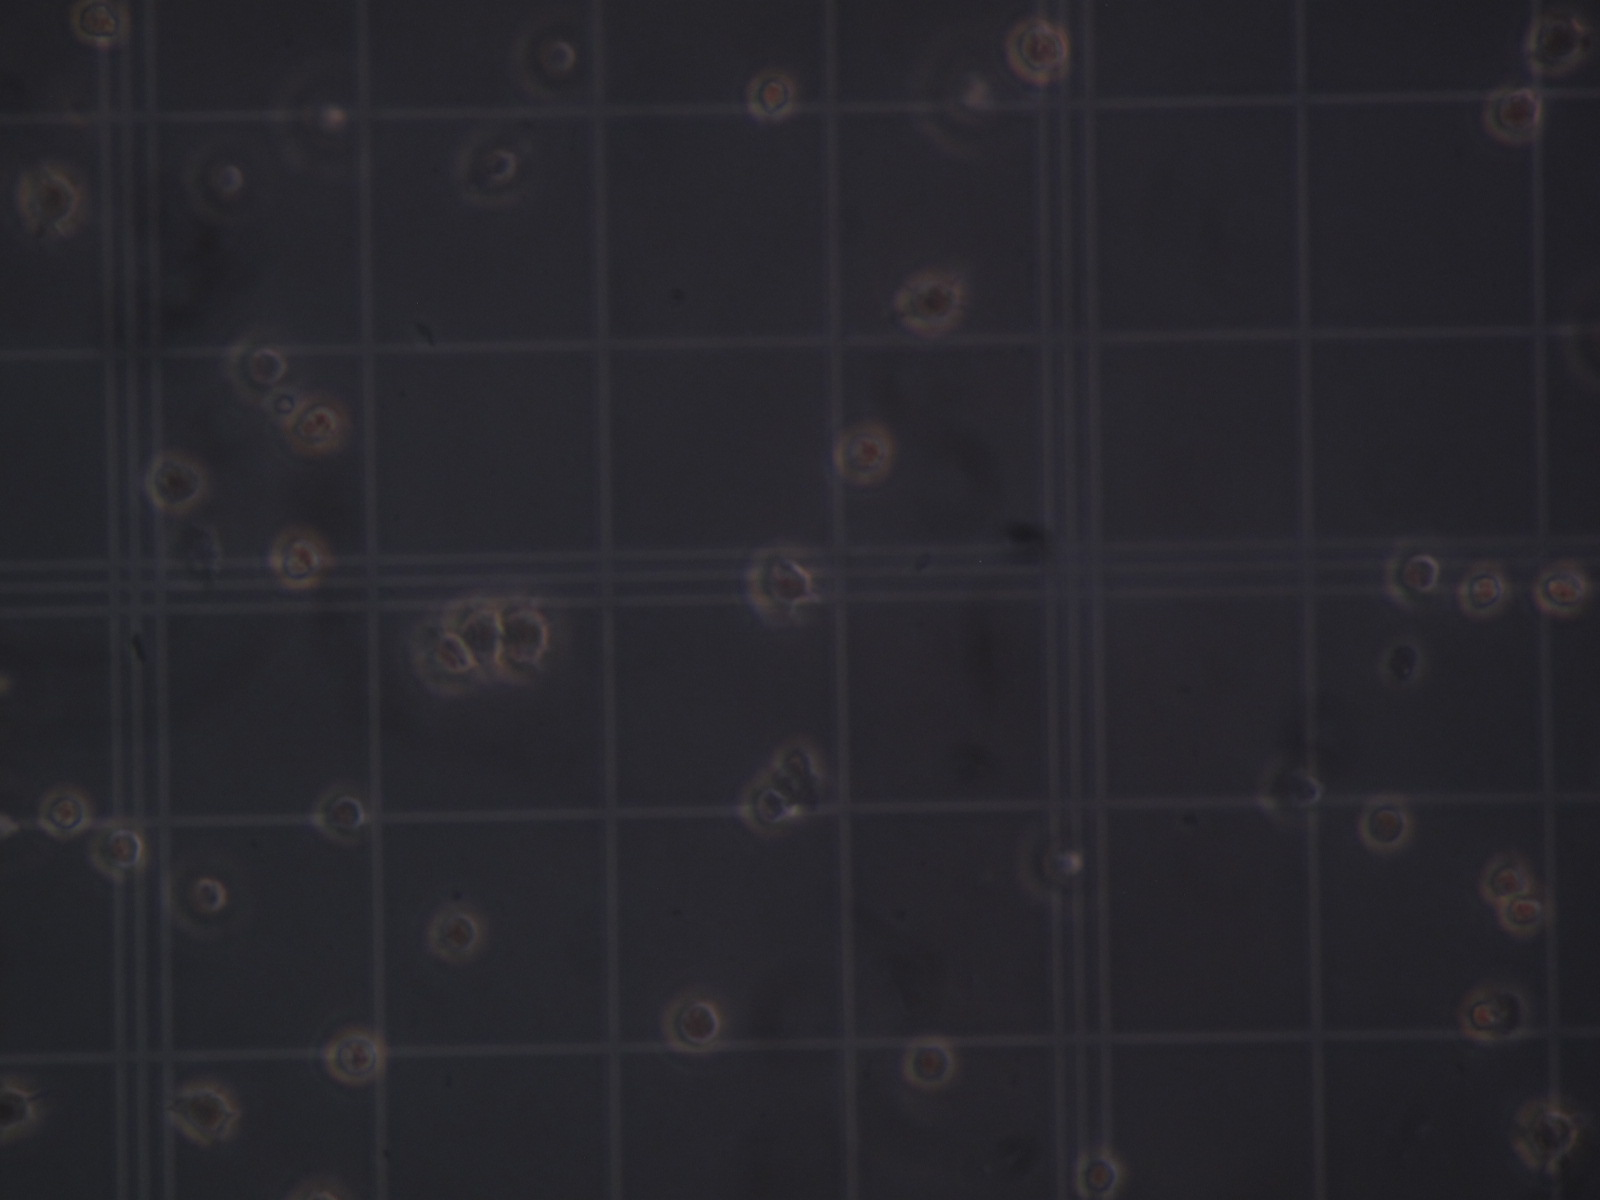hemo: (1015, 826, 1083, 906), (511, 23, 576, 103), (745, 546, 813, 620), (409, 621, 476, 696), (165, 860, 228, 938), (1511, 1100, 1579, 1172), (457, 131, 518, 209), (1256, 759, 1325, 827), (185, 147, 244, 224), (443, 592, 503, 666), (224, 338, 287, 406), (500, 603, 551, 684), (1007, 19, 1070, 84), (894, 274, 963, 333), (18, 168, 81, 231), (171, 1083, 236, 1145), (769, 742, 826, 811), (145, 451, 207, 514), (1526, 14, 1587, 76), (833, 422, 894, 484), (268, 527, 329, 590), (1383, 545, 1441, 610), (661, 995, 722, 1055), (325, 1027, 384, 1087), (737, 778, 797, 836), (1483, 86, 1543, 144), (285, 397, 344, 455), (89, 821, 146, 879), (311, 785, 367, 845), (427, 908, 481, 962), (1358, 795, 1411, 851), (1533, 563, 1587, 616), (38, 787, 91, 839), (71, 1, 130, 47), (903, 1037, 956, 1088), (1459, 987, 1506, 1042), (1458, 566, 1507, 618), (746, 71, 797, 120), (1073, 1151, 1123, 1200), (1, 1076, 37, 1145), (1480, 857, 1532, 903), (1380, 639, 1425, 687), (1498, 896, 1545, 937)
